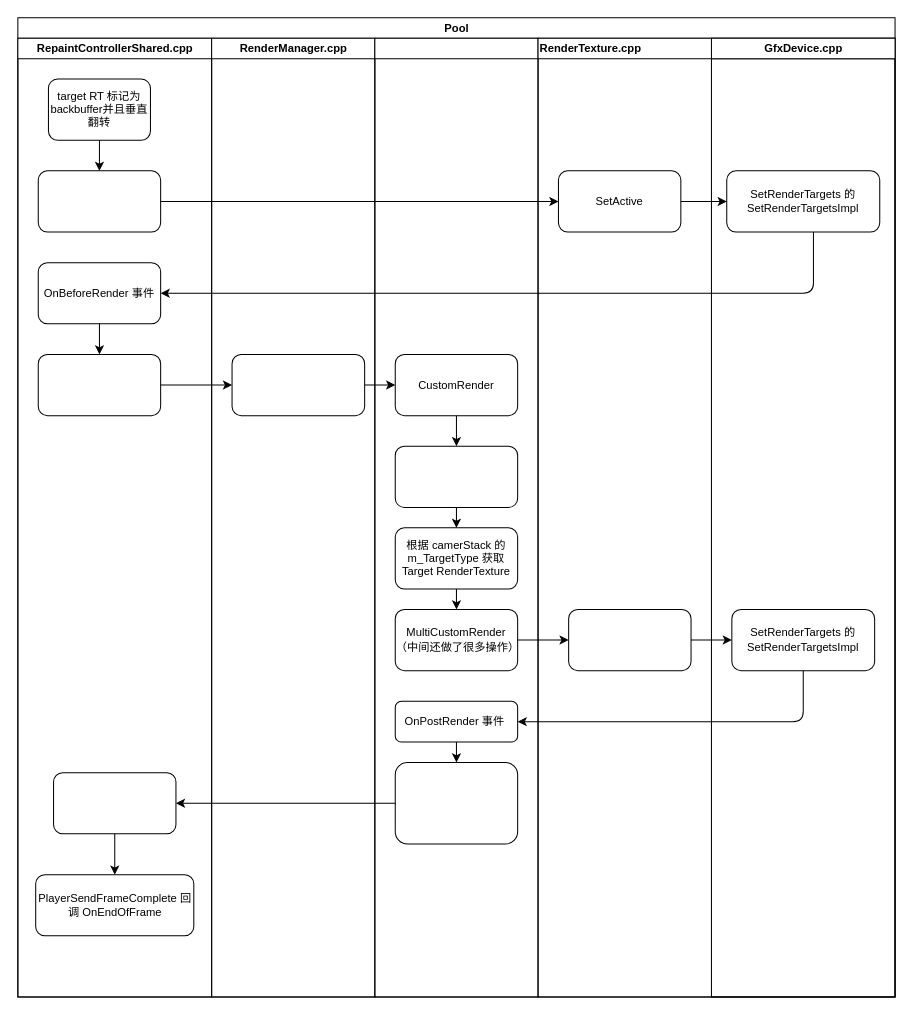
The diagram is 913 pixels wide and 1015 high, and some of its shapes have lost their labels. Each missing label, with the box of its shape:
backbuffer 设置为当前活跃的: (37, 170, 161, 232)
Camera.cpp: (374, 37, 538, 997)
OnPreRender 事件: (394, 445, 518, 507)
RenderCameras 的FindCameraStacks找出所有相机堆栈，进入Loop逐一渲染相机: (231, 353, 365, 416)
RenderOverlays 绘制 GUI: (53, 772, 176, 834)
SetActive 设置当前的活跃的 RT: (568, 608, 691, 671)
屏幕空间相机: (37, 353, 161, 416)
执行 Image Effect，这里会有一次 ImageFilters::Blit 操作，导致当前的活跃 RT 变成 backBuffer: (394, 761, 518, 844)
